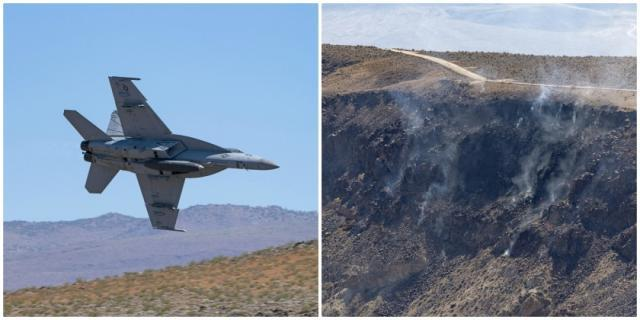airplane: (52, 64, 283, 239)
